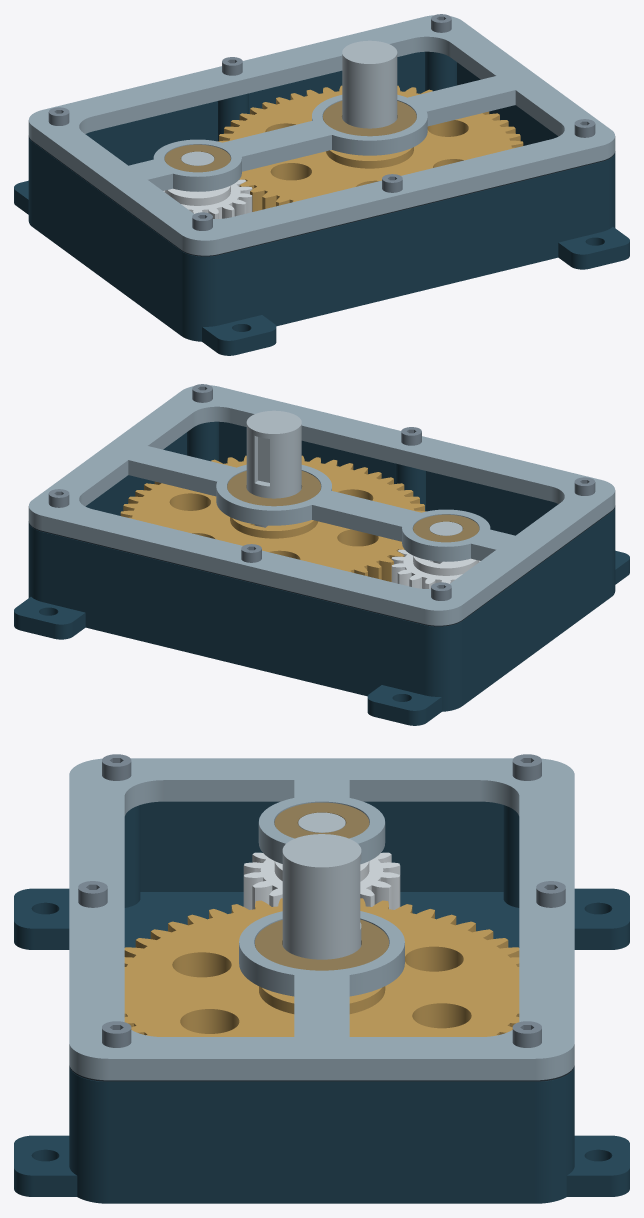
File: replicad.spur-gearbox.glb
3 views of the same model, one above another, from view 1: azimuth 30°, elevation 25°; view 2: azimuth 150°, elevation 25°; view 3: azimuth 270°, elevation 25° (orthographic). The views are drawn at different scales.
Parts seen in each view (by area): view 1: Housing, Cover, Output wheel, Output shaft, Input pinion, Output upper bearing, Input upper bearing, Gasket; view 2: Housing, Cover, Output wheel, Output shaft, Input pinion, Output upper bearing, Input upper bearing, Gasket; view 3: Housing, Cover, Output wheel, Output shaft, Input pinion, Output upper bearing, Input upper bearing, Gasket, Input shaft, Cover screw 1, Cover screw 2, Cover screw 5 (+3 smaller).
Part boxes in pixels (x1,y1,x2,y2): Housing: (14,51,629,355); Cover: (28,15,615,255); Output wheel: (217,85,523,211); Output shaft: (342,40,397,128); Input pinion: (163,179,252,218); Output upper bearing: (323,101,416,136); Input upper bearing: (164,144,230,172); Gasket: (28,135,615,256); Housing: (14,421,629,725); Cover: (28,385,615,625); Output wheel: (120,455,426,581); Output shaft: (246,410,301,527); Input pinion: (391,549,480,588); Output upper bearing: (227,471,320,506); Input upper bearing: (413,514,479,542); Gasket: (28,505,615,626); Housing: (14,801,629,1203); Cover: (69,758,574,1080); Output wheel: (124,898,519,1036); Output shaft: (282,834,361,959); Input pinion: (243,852,400,909); Output upper bearing: (255,919,388,970); Input upper bearing: (274,802,369,838); Gasket: (69,1065,574,1081); Input shaft: (298,812,345,832); Cover screw 1: (102,754,131,780); Cover screw 2: (512,754,541,780); Cover screw 5: (102,1021,131,1047).
Size of the model in its own units: 0.18 by 0.088 by 0.156.
